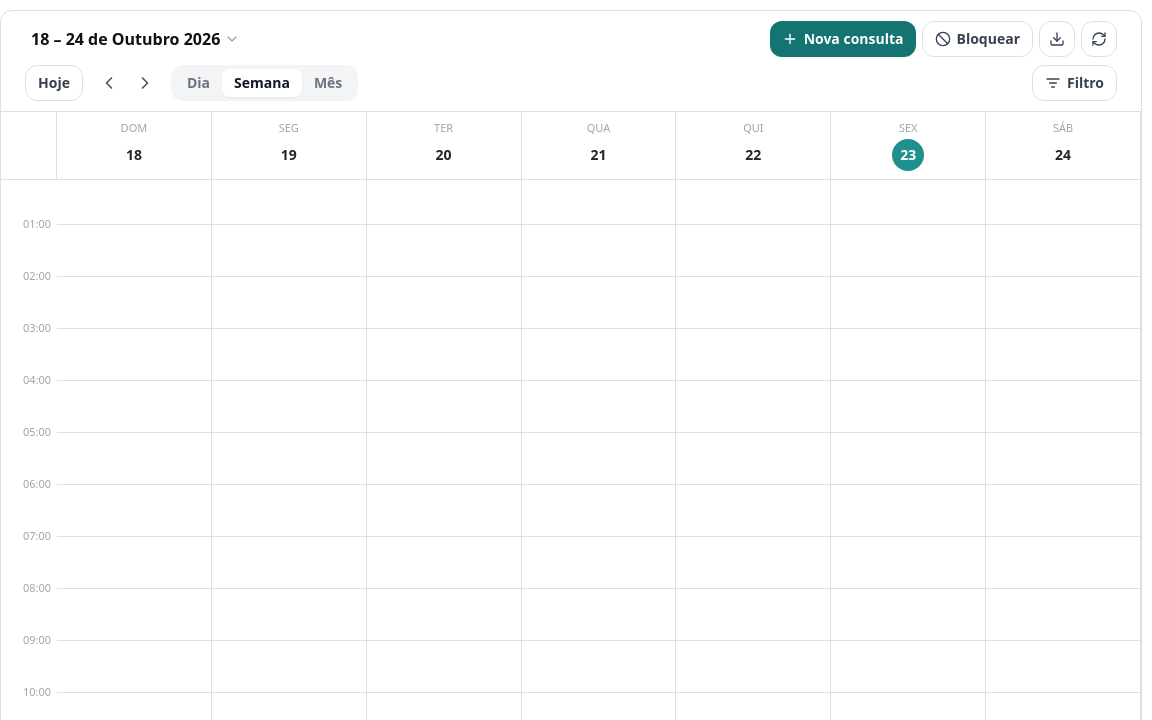
AgendaPage — gating por Solicitações (cirurgias) › busca cirurgias e mostra a aba e a exportação para quem tem Solicitações
Click the button "Filtro".
click(1074, 83)  # box [1032, 65, 1117, 101]
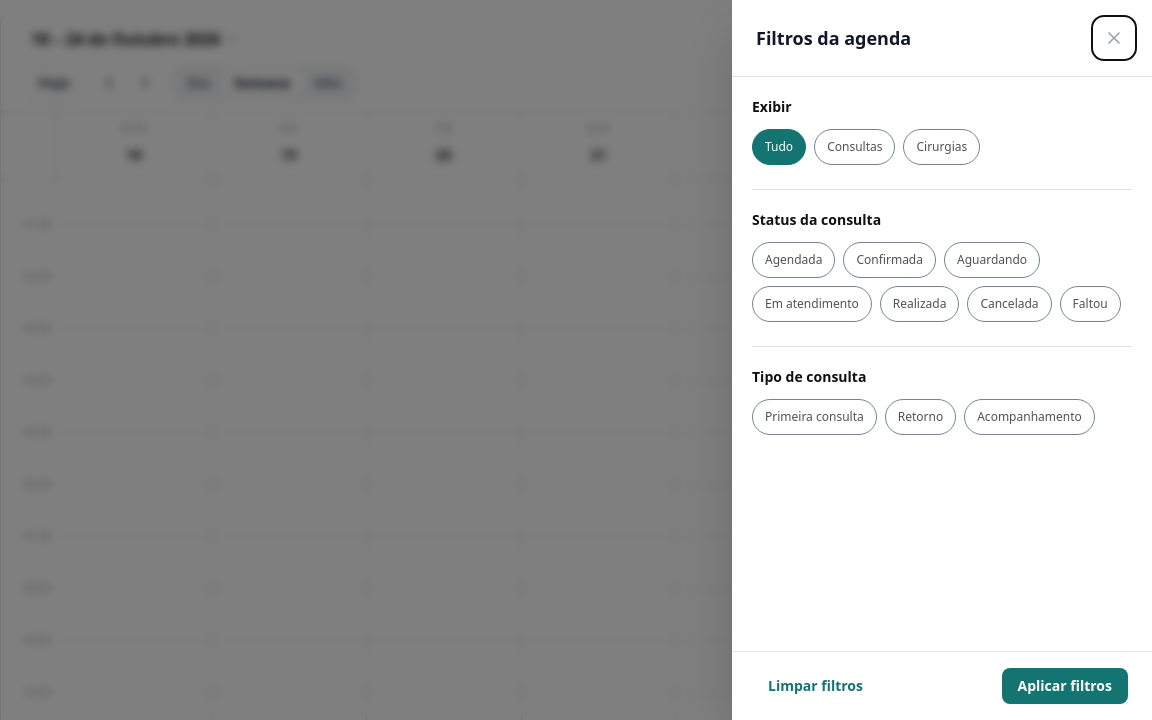
Now the button "Cirurgias" is shown, box [904, 129, 980, 165]
